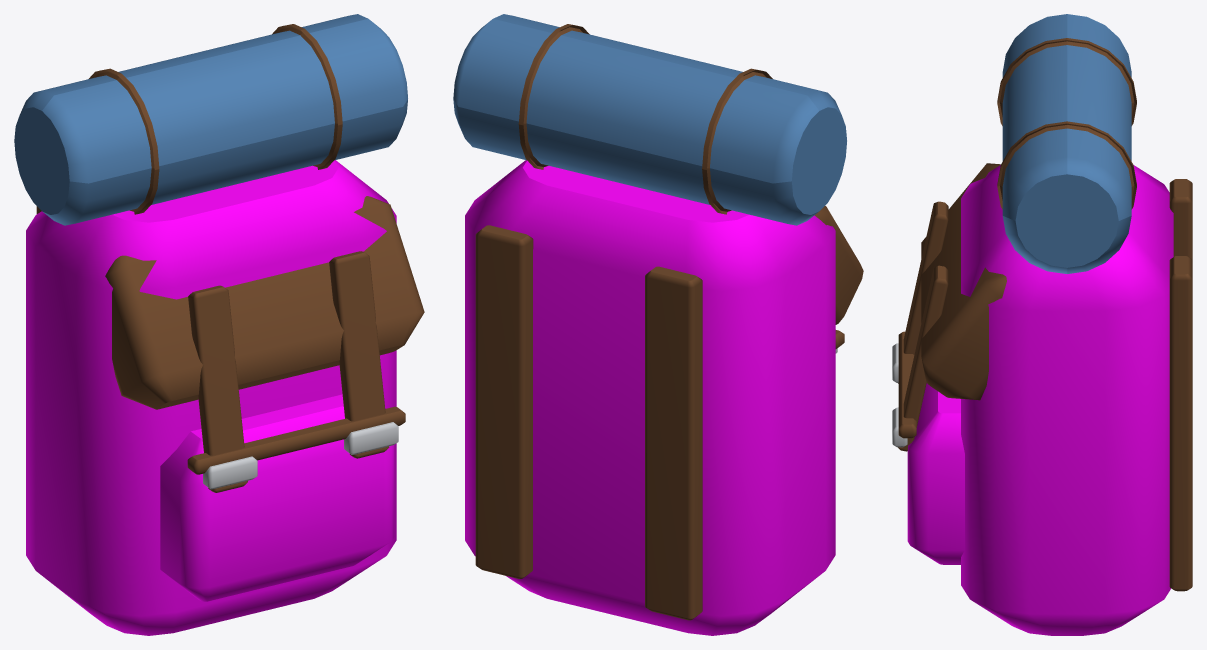
Rendered from objet_sac_a_dos.glb.
The picture shows the model from 3 angles, left to right: view 1: azimuth 30°, elevation 25°; view 2: azimuth 150°, elevation 25°; view 3: azimuth 270°, elevation 25°; orthographic projection. The views are drawn at different scales.
Parts seen in each view (by area): view 1: sac_teinte.002, sac_couverture.002, sac_sac_cuir.002, sac_boucle.002; view 2: sac_teinte.002, sac_couverture.002, sac_sac_cuir.002; view 3: sac_teinte.002, sac_couverture.002, sac_sac_cuir.002, sac_boucle.002.
Boxes of the visible parts, box(x1,y1,x2,y2) form: sac_teinte.002: box(26, 160, 396, 635); sac_couverture.002: box(14, 14, 407, 225); sac_sac_cuir.002: box(36, 24, 424, 492); sac_boucle.002: box(203, 422, 398, 489); sac_teinte.002: box(465, 160, 835, 635); sac_couverture.002: box(453, 14, 846, 225); sac_sac_cuir.002: box(475, 24, 863, 620); sac_teinte.002: box(907, 165, 1173, 635); sac_couverture.002: box(1002, 14, 1131, 273); sac_sac_cuir.002: box(898, 38, 1192, 591); sac_boucle.002: box(892, 343, 907, 447).
Bounding box in the file's own units: 0.24 × 0.366 × 0.1975.
